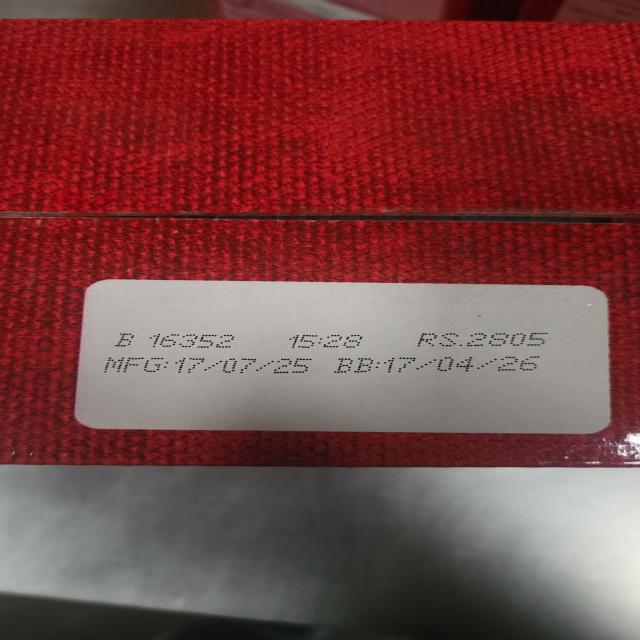BB: (334, 356, 546, 375)
Batch: (112, 333, 238, 348)
MFG: (103, 356, 310, 374)
RS: (416, 332, 550, 347)
TimeStamp: (287, 334, 367, 348)
